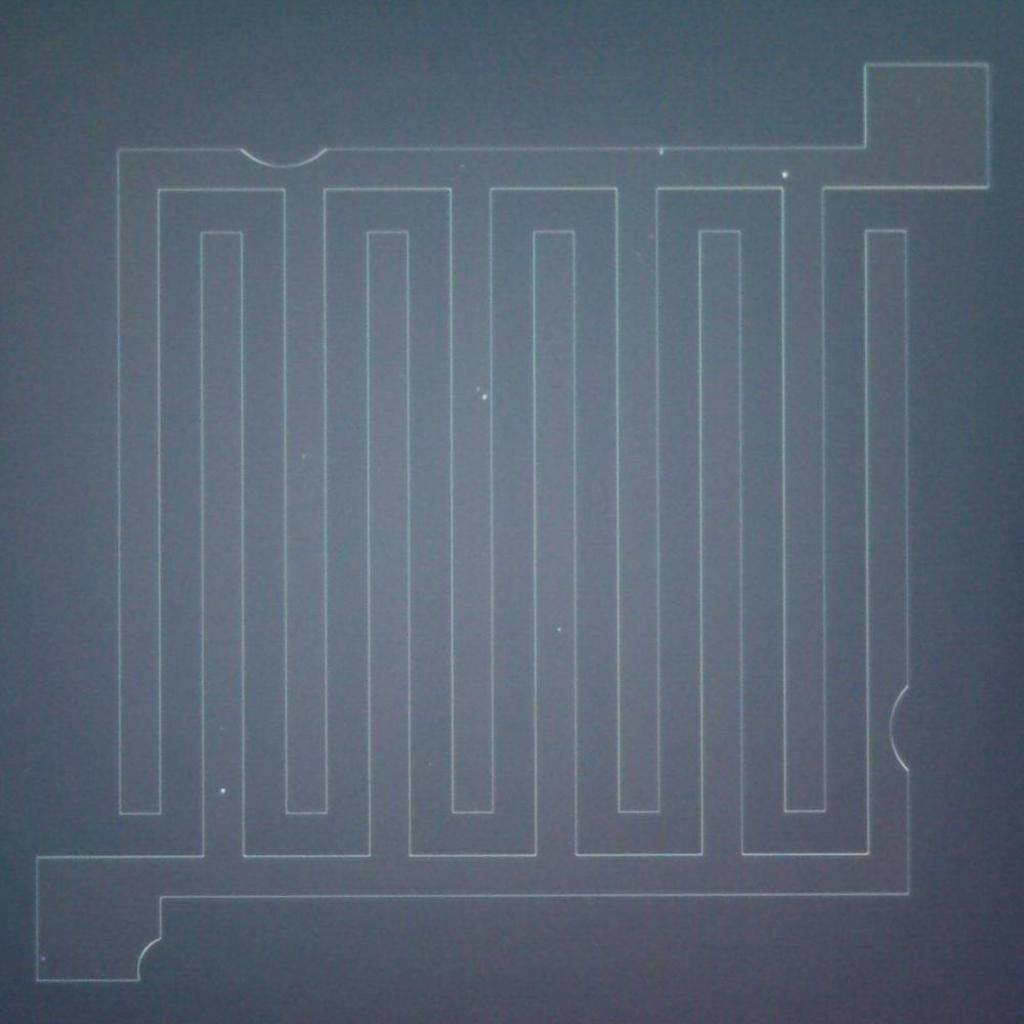curve circuit: (222, 130, 350, 180), (881, 669, 929, 785), (119, 924, 175, 992)
dot: (211, 775, 238, 806), (769, 161, 800, 184)
